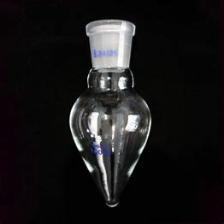Pear shaped flask: (63, 8, 157, 209)
